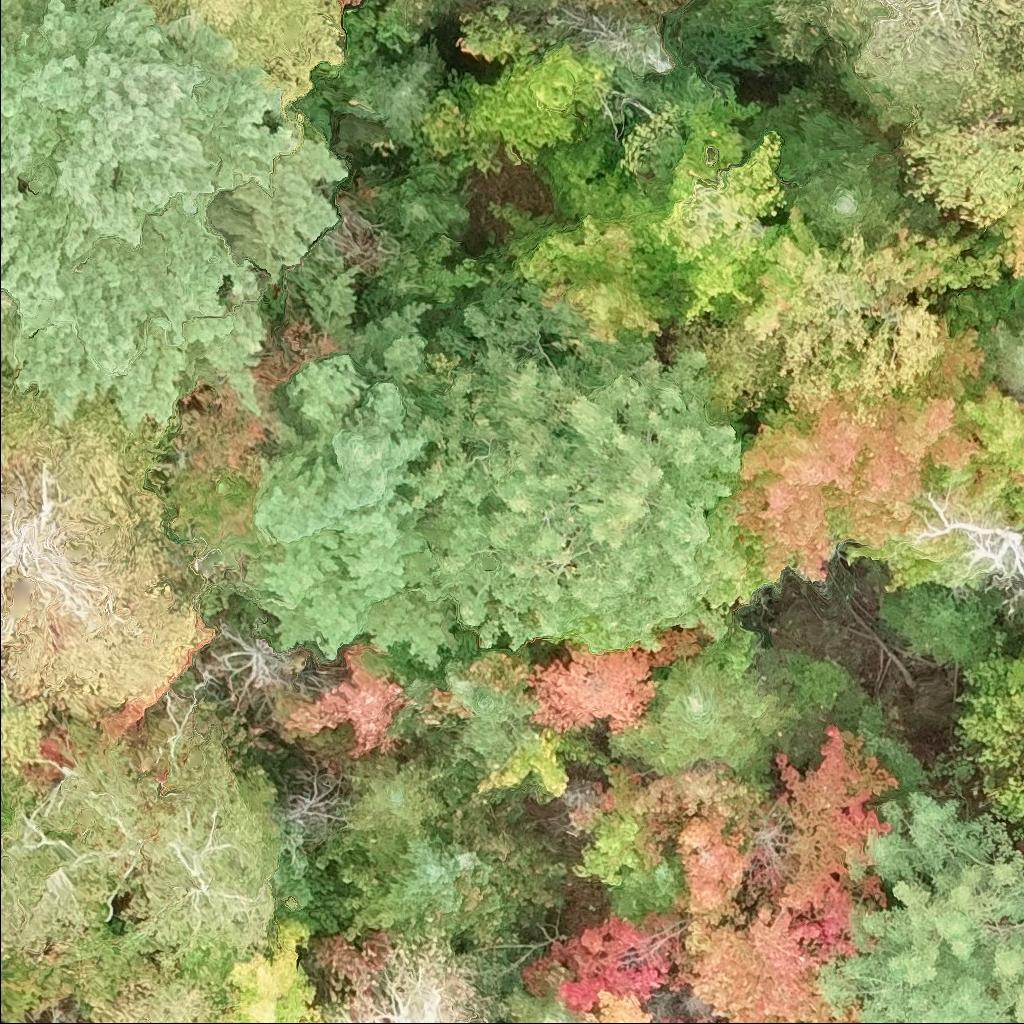crown: (312, 267, 739, 643), (0, 0, 354, 428), (0, 352, 213, 733), (641, 724, 898, 1023), (27, 705, 281, 963), (732, 333, 980, 590), (256, 356, 458, 671), (826, 797, 1023, 1023), (627, 94, 788, 330), (421, 6, 608, 167), (780, 0, 1023, 122), (147, 0, 346, 107), (609, 654, 784, 775), (531, 625, 705, 737), (520, 218, 664, 341), (528, 912, 687, 1012), (0, 816, 107, 958), (902, 105, 1023, 227), (285, 636, 405, 758), (780, 115, 901, 234), (955, 648, 1023, 830), (949, 384, 1023, 543), (380, 836, 487, 935), (225, 922, 325, 1023), (884, 583, 995, 666), (349, 758, 439, 855), (102, 975, 221, 1023), (0, 687, 50, 778), (384, 177, 466, 231), (608, 867, 679, 927), (991, 320, 1023, 399), (595, 989, 654, 1023), (1004, 659, 1023, 690), (665, 1017, 719, 1023), (6, 1021, 19, 1023)
